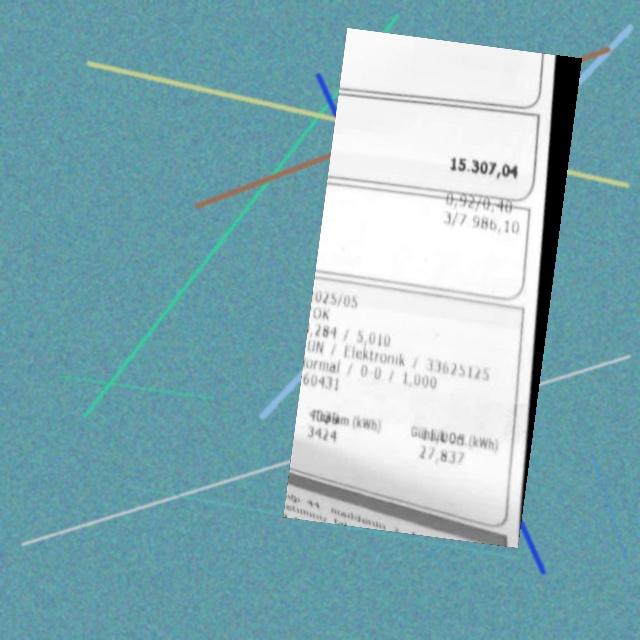electricity-bill: (283, 28, 581, 548)
